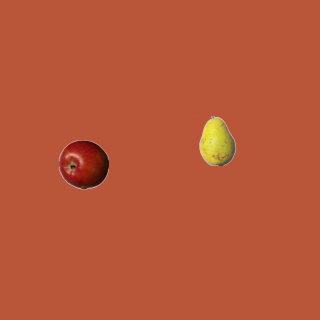Apple Braeburn: (58, 139, 108, 189)
Pear Monster: (192, 115, 242, 165)
